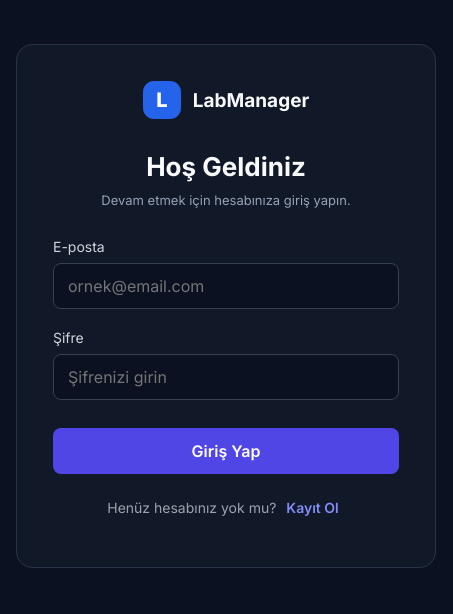
Test: Auth component › handles duplicate email registration
Click the button "Kayıt Ol".
click(313, 508)  # box [280, 498, 345, 517]
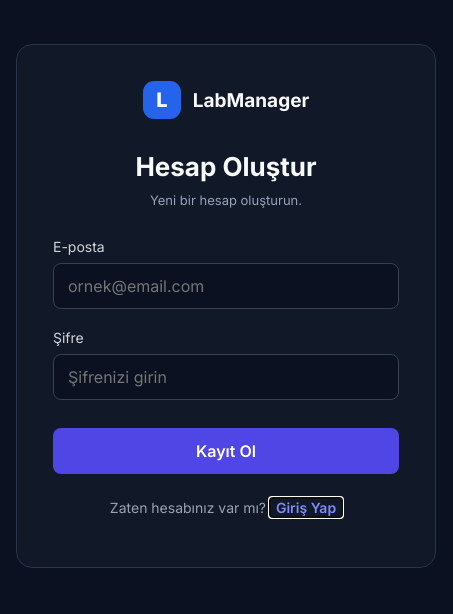
Type "test@example.com" into the field labelled "E-posta".
click(226, 286); type("test@example.com")  # box [53, 263, 399, 309]
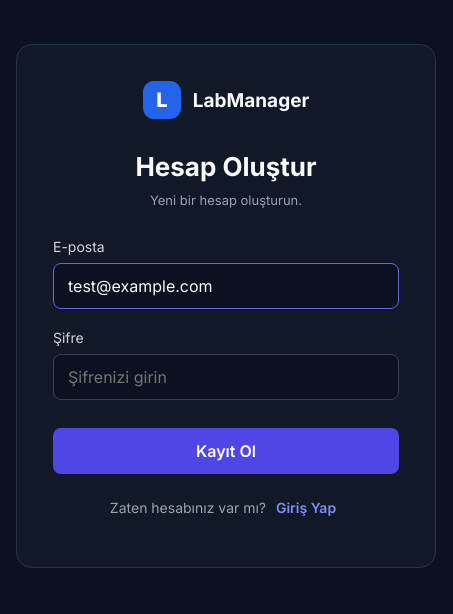
Type "TestPassword123" into the password field labelled "Şifre".
click(226, 377); type("TestPassword123")  # box [53, 354, 399, 400]
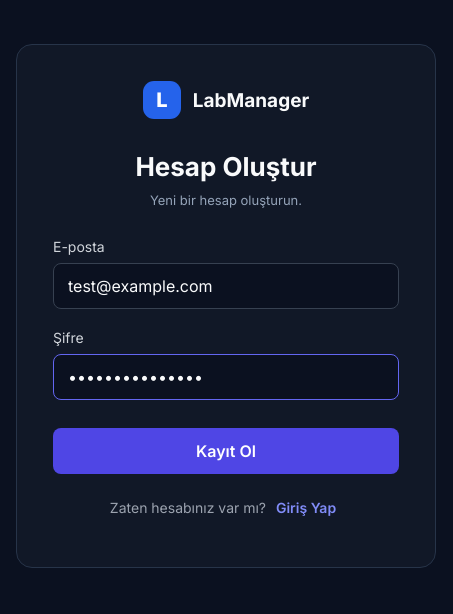
Click the button "Kayıt Ol".
click(226, 451)  # box [53, 428, 399, 474]
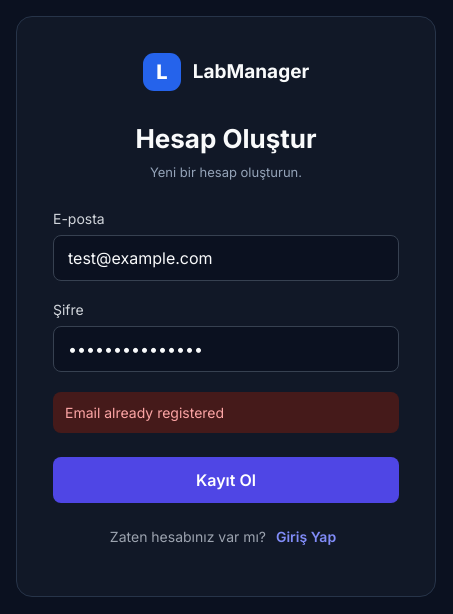
Expected: the text "Email already registered" is shown, [53, 392, 399, 432]
